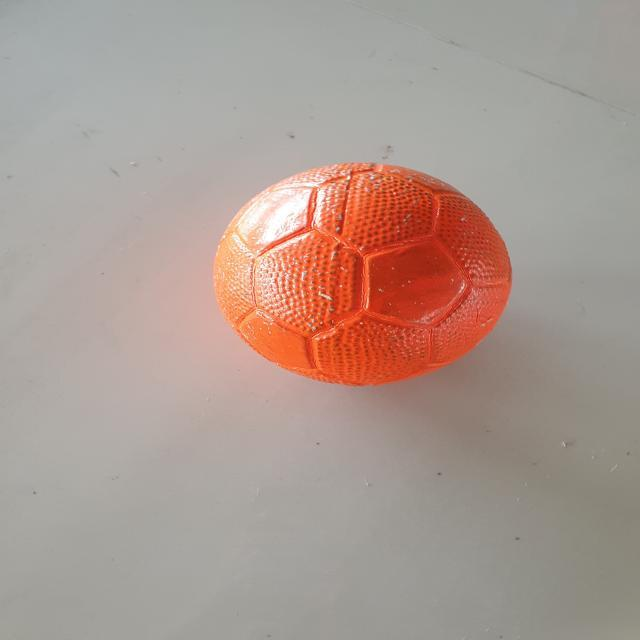bola: (199, 149, 521, 393)
